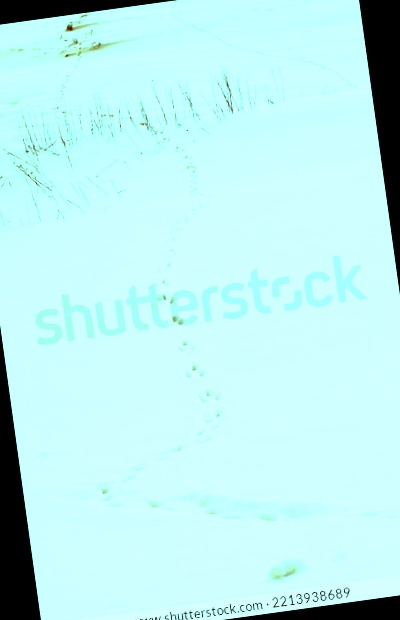lapin: (188, 404, 236, 445), (171, 329, 200, 356), (197, 381, 225, 405), (181, 359, 206, 380)
